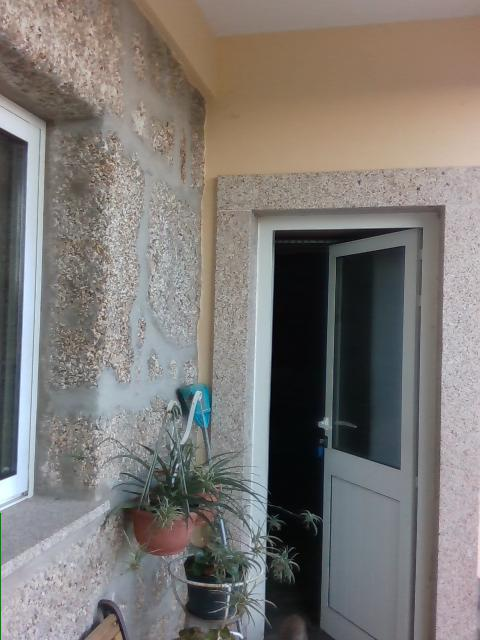semi_door: (245, 209, 440, 639)
